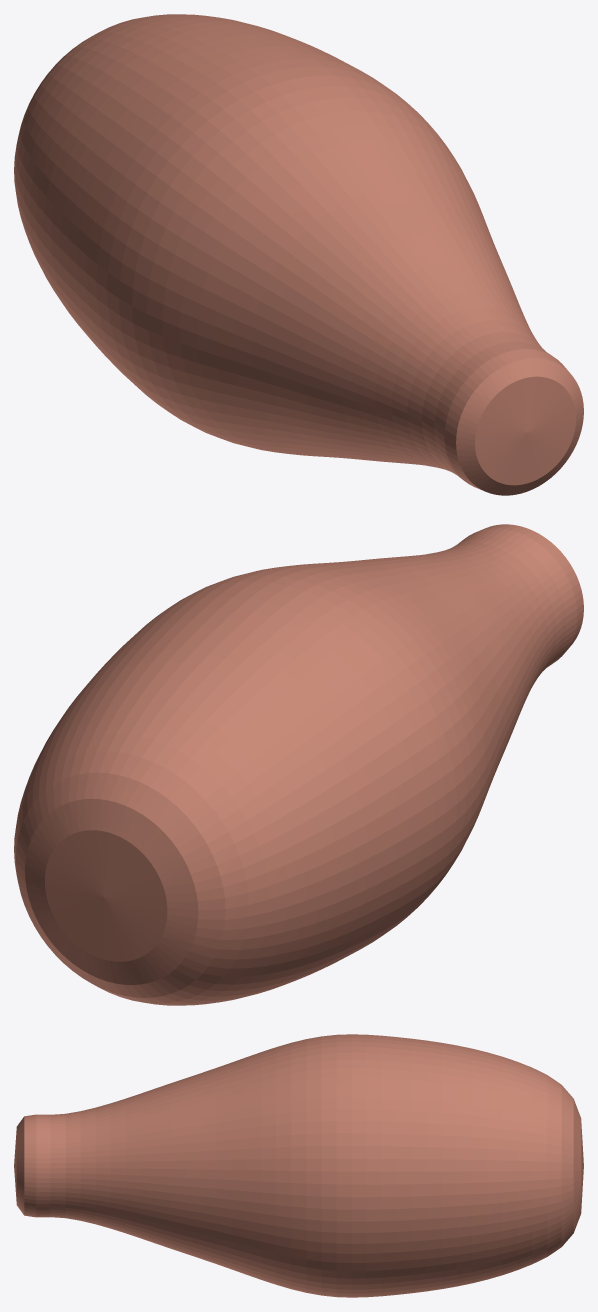
Rendered from vase.glb.
3 views of the same model, one above another, from view 1: azimuth 30°, elevation 25°; view 2: azimuth 150°, elevation 25°; view 3: azimuth 270°, elevation 25° (orthographic). The views are drawn at different scales.
Parts seen in each view (by area): view 1: body_0; view 2: body_0; view 3: body_0.
Part boxes in pixels (x1,y1,x2,y2): body_0: (14, 14, 583, 495); body_0: (14, 524, 583, 1005); body_0: (14, 1034, 583, 1297).
Bounding box in the file's own units: 0.1572 × 0.1572 × 0.3398.
